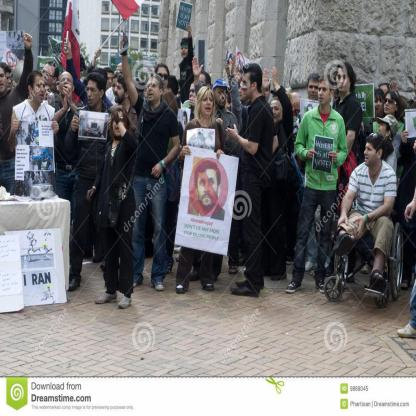face: (198, 174, 218, 207), (337, 69, 352, 93), (89, 81, 102, 107), (365, 141, 378, 166), (147, 79, 161, 101), (156, 69, 170, 91), (113, 112, 125, 137), (33, 78, 45, 103), (202, 93, 215, 116), (319, 81, 331, 105), (60, 74, 73, 96), (270, 103, 284, 123), (215, 85, 228, 106), (42, 66, 54, 88), (243, 74, 253, 100), (115, 82, 127, 102), (309, 80, 320, 101), (196, 76, 207, 97), (385, 94, 396, 114), (374, 94, 384, 115), (378, 120, 387, 138), (190, 86, 199, 104), (5, 72, 13, 92), (44, 87, 53, 104), (105, 74, 114, 91), (262, 82, 270, 101), (113, 79, 121, 98), (1, 69, 7, 93), (240, 82, 247, 102), (182, 45, 190, 59), (236, 72, 242, 81), (415, 79, 416, 97)
